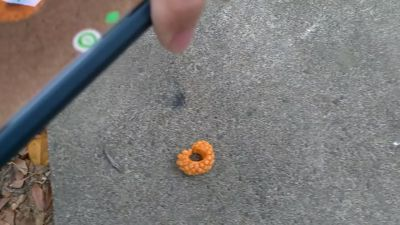eggs: (175, 138, 217, 176)
